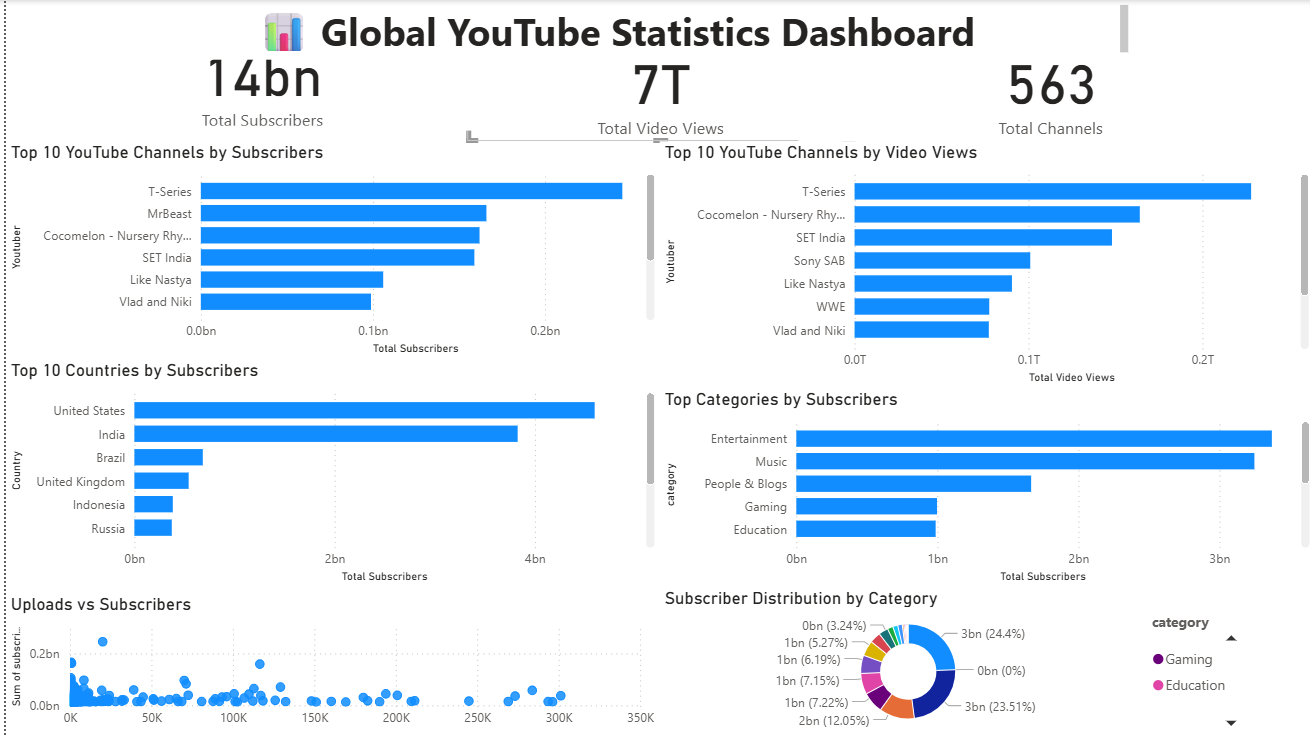

Layout of this report page (visuals, bound fields, positions):
{"tool":"powerbi","page":{"name":"Page 1","canvas":[1280,720],"ordinal":0},"visuals":[{"type":"barChart","title":"Top 10 YouTube Channels by Subscribers","fields":{"Category":["Global YouTube Statistics.Youtuber"],"Y":["Global YouTube Statistics.Total Subscribers"]},"box":[0,138.2,639.5,214],"z":0},{"type":"card","fields":{"Values":["Global YouTube Statistics.Total Video Views"]},"box":[450.7,33.8,378.9,104.2],"z":1000},{"type":"card","fields":{"Values":["Global YouTube Statistics.Total Channels"]},"box":[775.5,33.8,494,104.2],"z":2000},{"type":"card","fields":{"Values":["Global YouTube Statistics.Total Subscribers"]},"box":[0,29.8,502.1,98.8],"z":3000},{"type":"clusteredBarChart","title":"Top 10 Countries by Subscribers","fields":{"Y":["Global YouTube Statistics.Total Subscribers"],"Category":["Global YouTube Statistics.Country"]},"box":[0,352.2,639.5,222.6],"z":4000},{"type":"clusteredBarChart","title":"Top Categories by Subscribers","fields":{"Y":["Global YouTube Statistics.Total Subscribers"],"Category":["Global YouTube Statistics.category"]},"box":[639.5,380.3,640.8,194.4],"z":5000},{"type":"clusteredBarChart","title":"Top 10 YouTube Channels by Video Views","fields":{"Y":["Global YouTube Statistics.Total Video Views"],"Category":["Global YouTube Statistics.Youtuber"]},"box":[640.1,138,640.1,242.3],"z":6000},{"type":"donutChart","title":"Subscriber Distribution by Category","fields":{"Category":["Global YouTube Statistics.category"],"Y":["Global YouTube Statistics.Total Subscribers","CountNonNull(Global YouTube Statistics.category)"]},"box":[639.5,574.7,639.5,145.5],"z":7000},{"type":"scatterChart","title":"Uploads vs Subscribers","fields":{"X":["Sum(Global YouTube Statistics.uploads)"],"Y":["Sum(Global YouTube Statistics.subscribers)"],"Category":["Global YouTube Statistics.Youtuber"]},"box":[0,580.8,639.5,139.4],"z":8000},{"type":"textbox","box":[100.1,0,1002.8,58.2],"z":8001}]}

Visuals, with their boxes in screenshot pixels (x1, y1, x2, y2), scaled from the page's 1280x720 canvas onto the 1310x736 screenshot:
"Top 10 YouTube Channels by Subscribers" barChart: [0,141,654,360]
card - Global YouTube Statistics.Total Video Views: [461,35,849,141]
card - Global YouTube Statistics.Total Channels: [794,35,1299,141]
card - Global YouTube Statistics.Total Subscribers: [0,30,514,131]
"Top 10 Countries by Subscribers" clusteredBarChart: [0,360,654,588]
"Top Categories by Subscribers" clusteredBarChart: [654,389,1309,587]
"Top 10 YouTube Channels by Video Views" clusteredBarChart: [655,141,1309,389]
"Subscriber Distribution by Category" donutChart: [654,587,1309,735]
"Uploads vs Subscribers" scatterChart: [0,594,654,735]
textbox: [102,0,1129,59]
